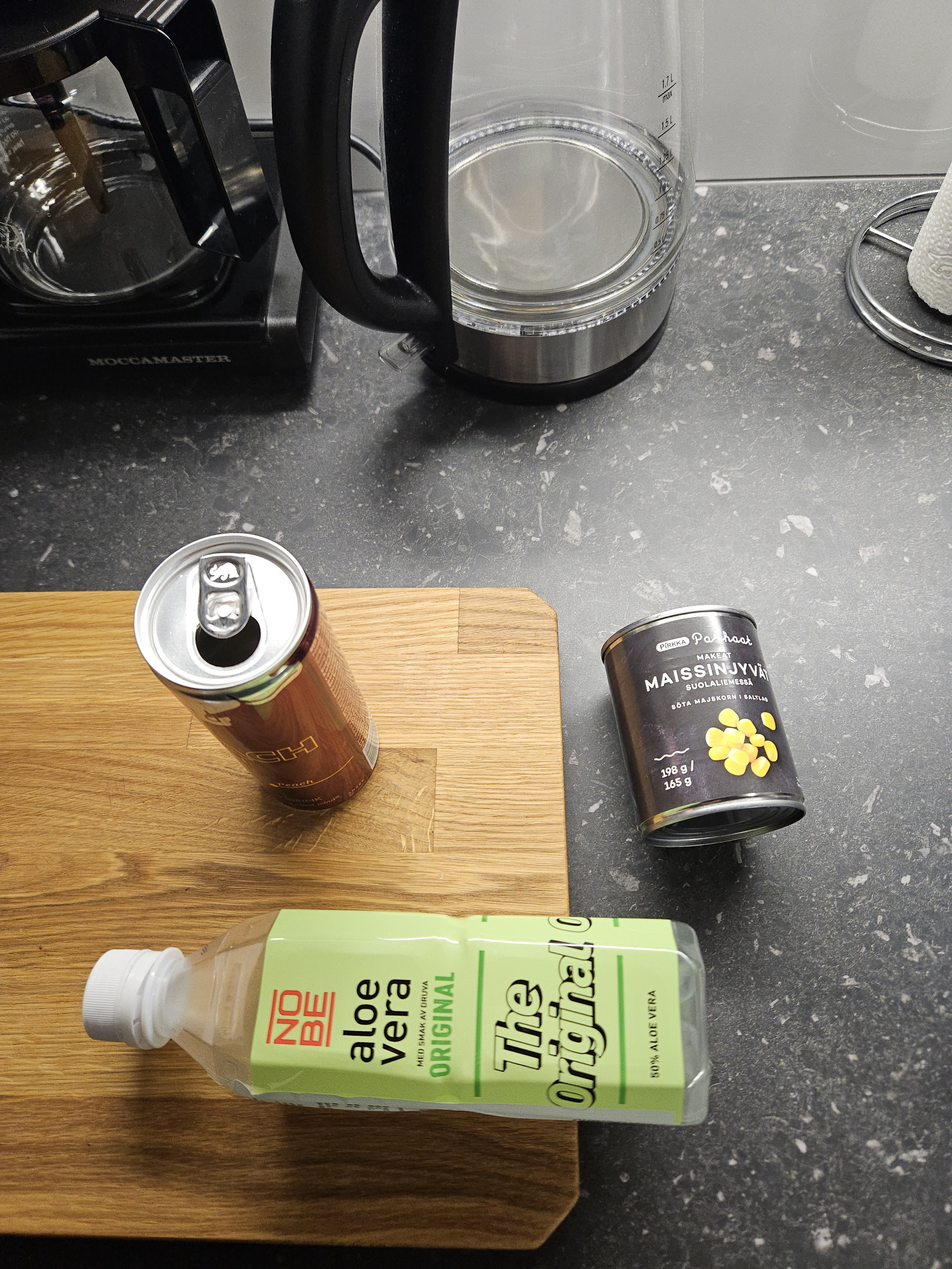Konservburk: (582, 599, 836, 856)
Pantburk: (130, 528, 398, 822)
